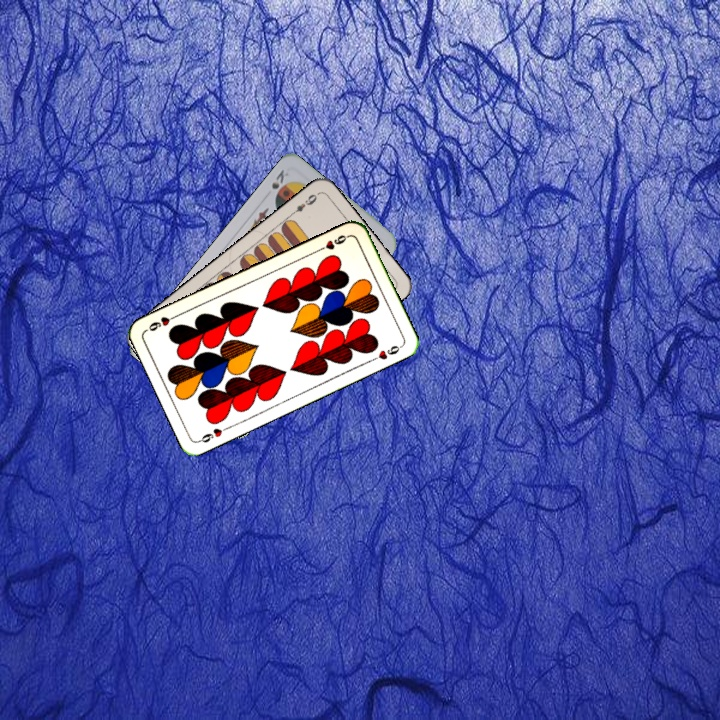E9: (286, 190, 320, 218)
H9: (314, 231, 352, 254), (195, 422, 233, 445)
SK: (267, 165, 291, 192)
